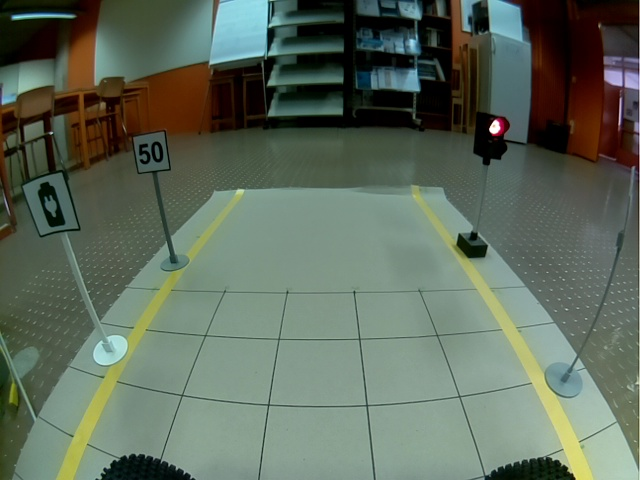battery: (21, 169, 81, 238)
speed50: (132, 130, 171, 174)
trafficLightRed: (473, 111, 511, 160)
